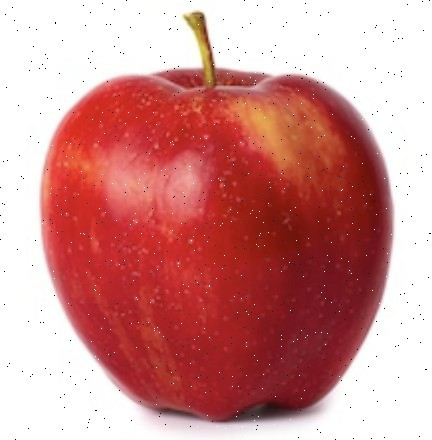fresh_apple: (41, 65, 399, 421)
